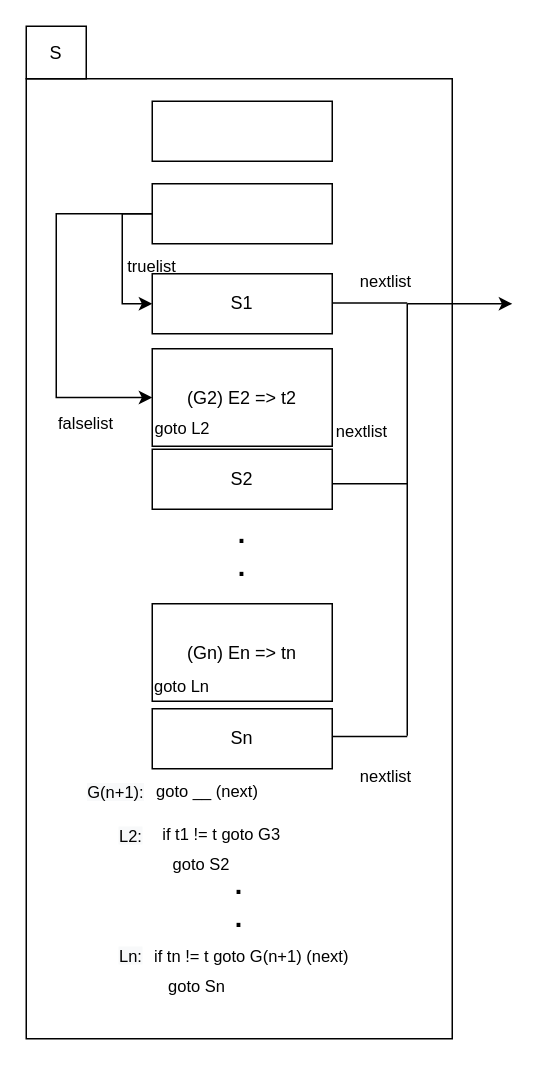
Image size: 551x1065. Some labels were removed from this diagram. Here are the shapes that lost their labels. From the top down, the centre of each, then its label:
At (x=241, y=130): "E => t".
At (x=241, y=213): "(G1) B1".
